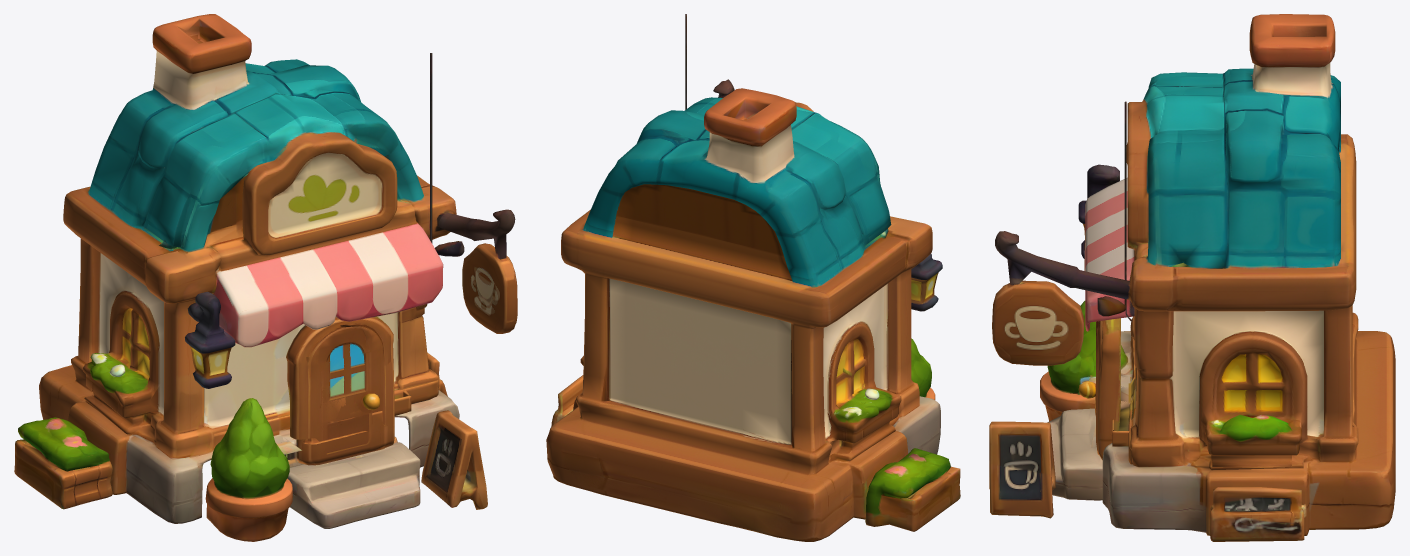
Rendered from shop_building.glb.
3 views of the same model, side by side, from view 1: azimuth 30°, elevation 25°; view 2: azimuth 150°, elevation 25°; view 3: azimuth 270°, elevation 25° (orthographic). The views are drawn at different scales.
Visible parts, largest first — view 1: Mesh_0.002; view 2: Mesh_0.002; view 3: Mesh_0.002.
Boxes of the visible parts, x1,y1,x2,y2 form: Mesh_0.002: (14, 14, 517, 541); Mesh_0.002: (546, 14, 960, 541); Mesh_0.002: (989, 14, 1395, 541).
Size of the model in its own units: 0.1195 by 0.12 by 0.1042.
Materials: 1 (1 with a texture image).
